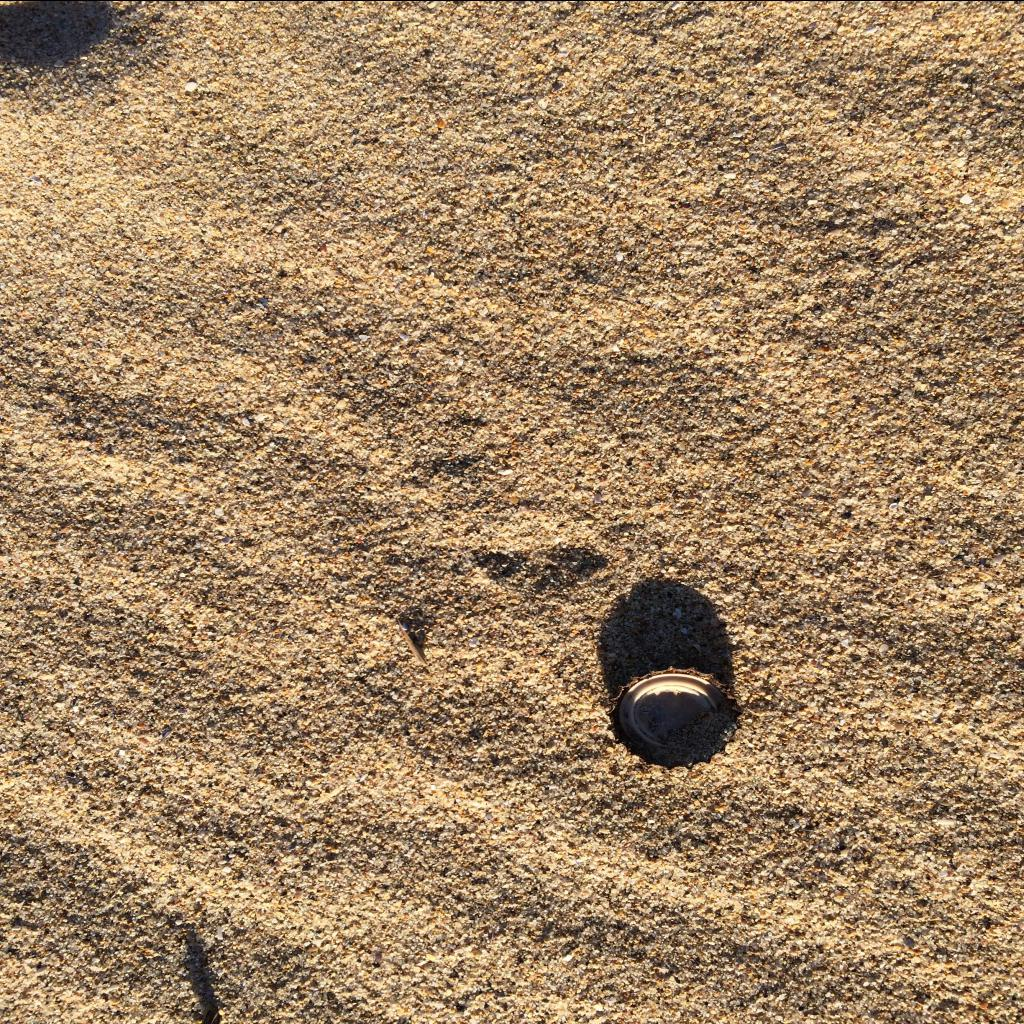Metal bottle cap: (606, 664, 744, 770)
